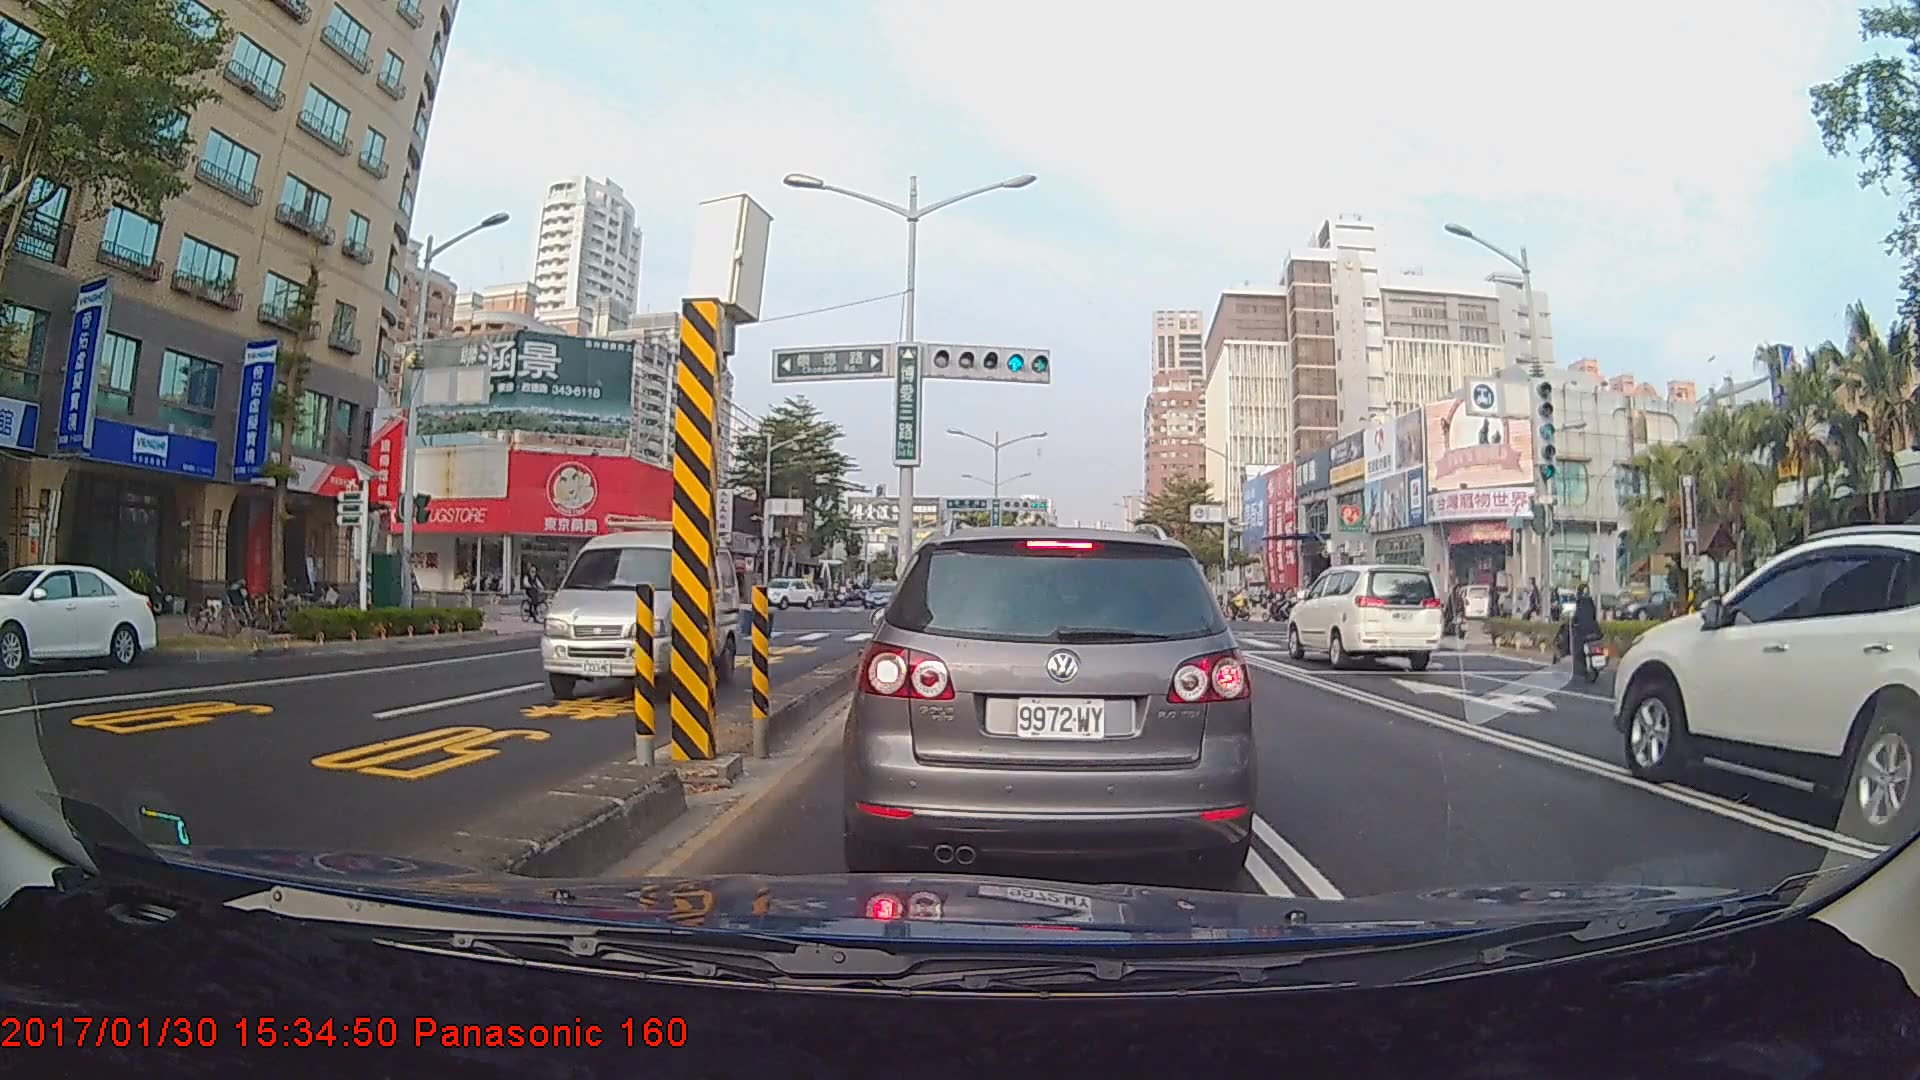pedestrian: (1487, 579, 1508, 637)
rider: (1542, 585, 1615, 687), (563, 568, 614, 625), (518, 559, 554, 629)
vehicle: (857, 523, 1246, 879), (1611, 522, 1920, 844), (538, 512, 739, 700), (0, 561, 158, 671), (1282, 562, 1444, 668), (862, 579, 901, 610)
